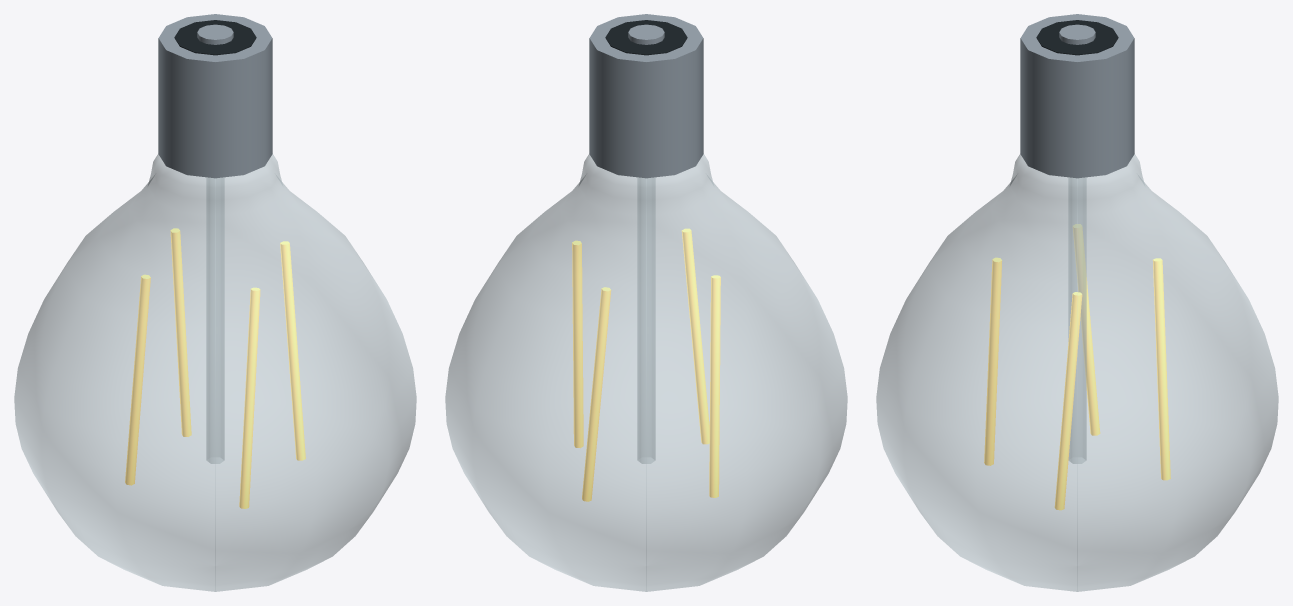
File: source.glb
3 views of the same model, side by side, from view 1: azimuth 30°, elevation 25°; view 2: azimuth 150°, elevation 25°; view 3: azimuth 270°, elevation 25° (orthographic).
Parts seen in each view (by area): view 1: 光学透明件, 机加工金属, Emitters, 密封及绝缘件; view 2: 光学透明件, 机加工金属, Emitters, 密封及绝缘件; view 3: 光学透明件, 机加工金属, Emitters, 密封及绝缘件.
Part boxes in pixels (x1=…): 光学透明件: x1=14, y1=154, x2=416, y2=591; 机加工金属: x1=158, y1=14, x2=272, y2=178; Emitters: x1=125, y1=228, x2=305, y2=508; 密封及绝缘件: x1=174, y1=20, x2=256, y2=55; 光学透明件: x1=445, y1=154, x2=847, y2=591; 机加工金属: x1=589, y1=14, x2=703, y2=178; Emitters: x1=572, y1=228, x2=720, y2=501; 密封及绝缘件: x1=605, y1=20, x2=687, y2=55; 光学透明件: x1=876, y1=154, x2=1278, y2=591; 机加工金属: x1=1020, y1=14, x2=1134, y2=178; Emitters: x1=984, y1=224, x2=1170, y2=510; 密封及绝缘件: x1=1036, y1=20, x2=1118, y2=55.
Bounding box in the file's own units: 0.0953 × 0.1395 × 0.0953.
